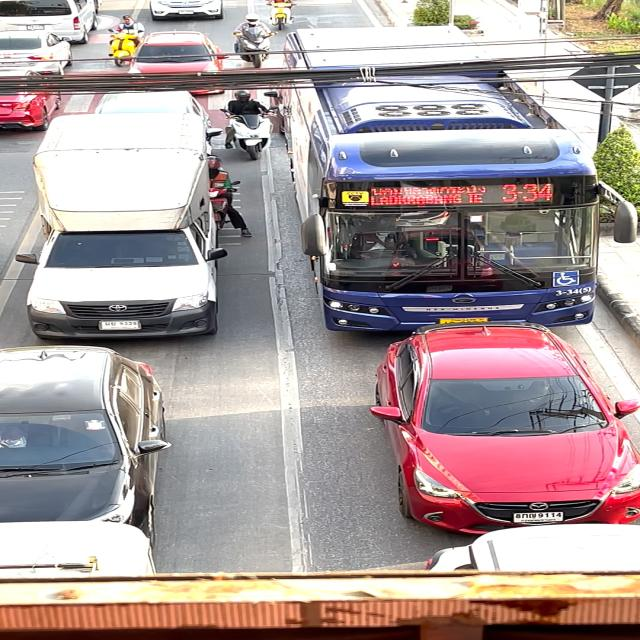car: (267, 27, 620, 339), (359, 317, 640, 531), (0, 102, 243, 343), (0, 328, 189, 534), (116, 20, 222, 100)
